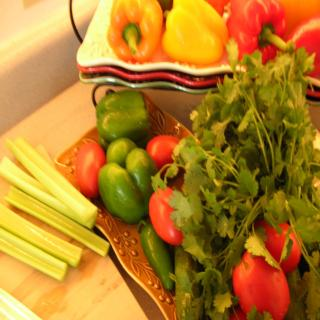tomato: (232, 249, 291, 320), (254, 222, 304, 278), (148, 184, 185, 246), (75, 140, 107, 200), (146, 134, 182, 172)
